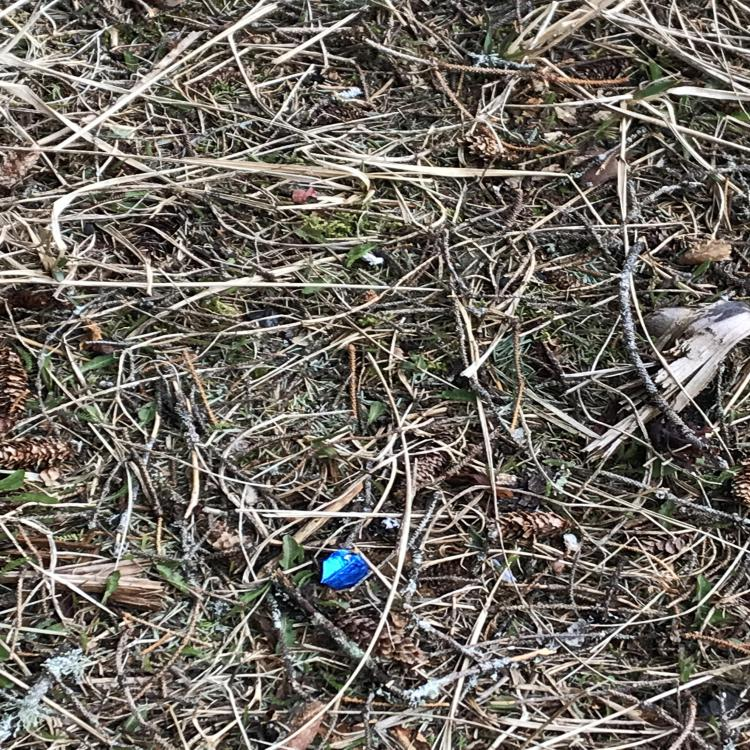Other plastic: (319, 549, 369, 590)
